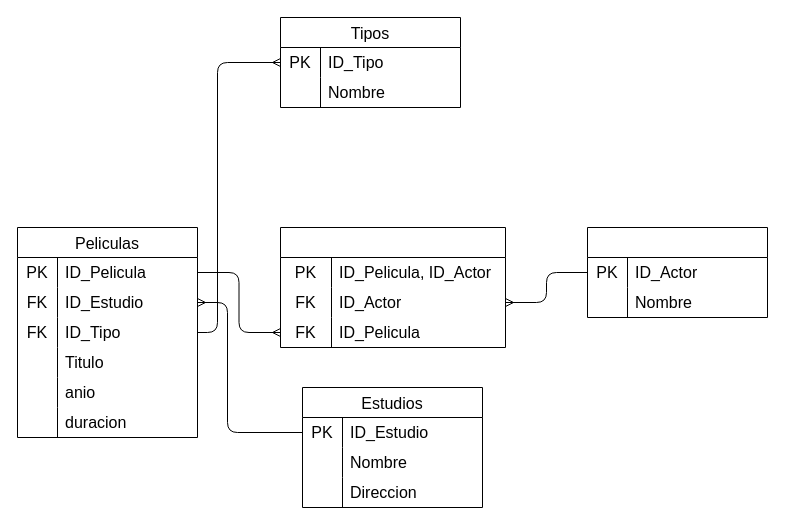
This 785x525 diagram has some shape labels left out. Each missing label, with the box of its shape:
Actores: (586, 226, 768, 318)
Pelicula_Actor: (280, 226, 506, 348)
